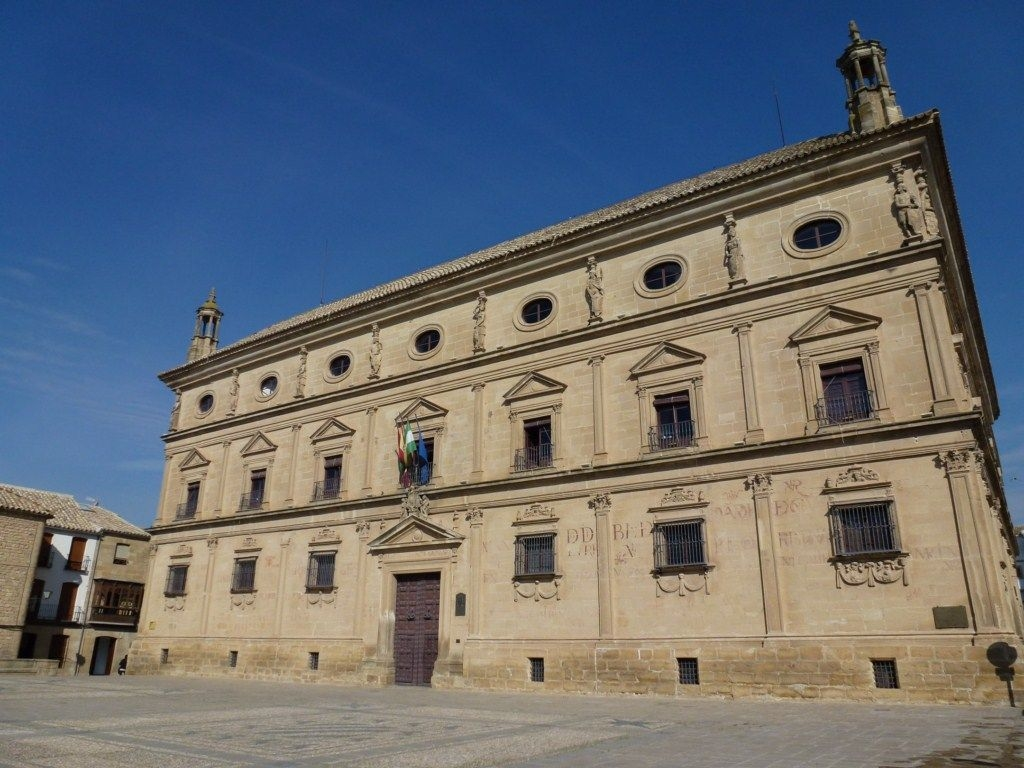fronton: (366, 512, 465, 552), (786, 302, 884, 342), (628, 339, 707, 375), (501, 369, 567, 403), (393, 395, 449, 426), (308, 416, 356, 443), (237, 429, 279, 458), (177, 447, 211, 473)
ojo-de-buey: (779, 209, 852, 259), (632, 250, 691, 299), (513, 290, 559, 328), (402, 324, 448, 359), (320, 348, 357, 383), (253, 372, 284, 401), (194, 389, 218, 416)
vano-adintelado: (374, 553, 460, 688), (797, 335, 895, 427), (637, 368, 708, 462), (506, 397, 565, 476), (308, 439, 356, 506), (234, 453, 278, 516), (169, 469, 210, 523)
